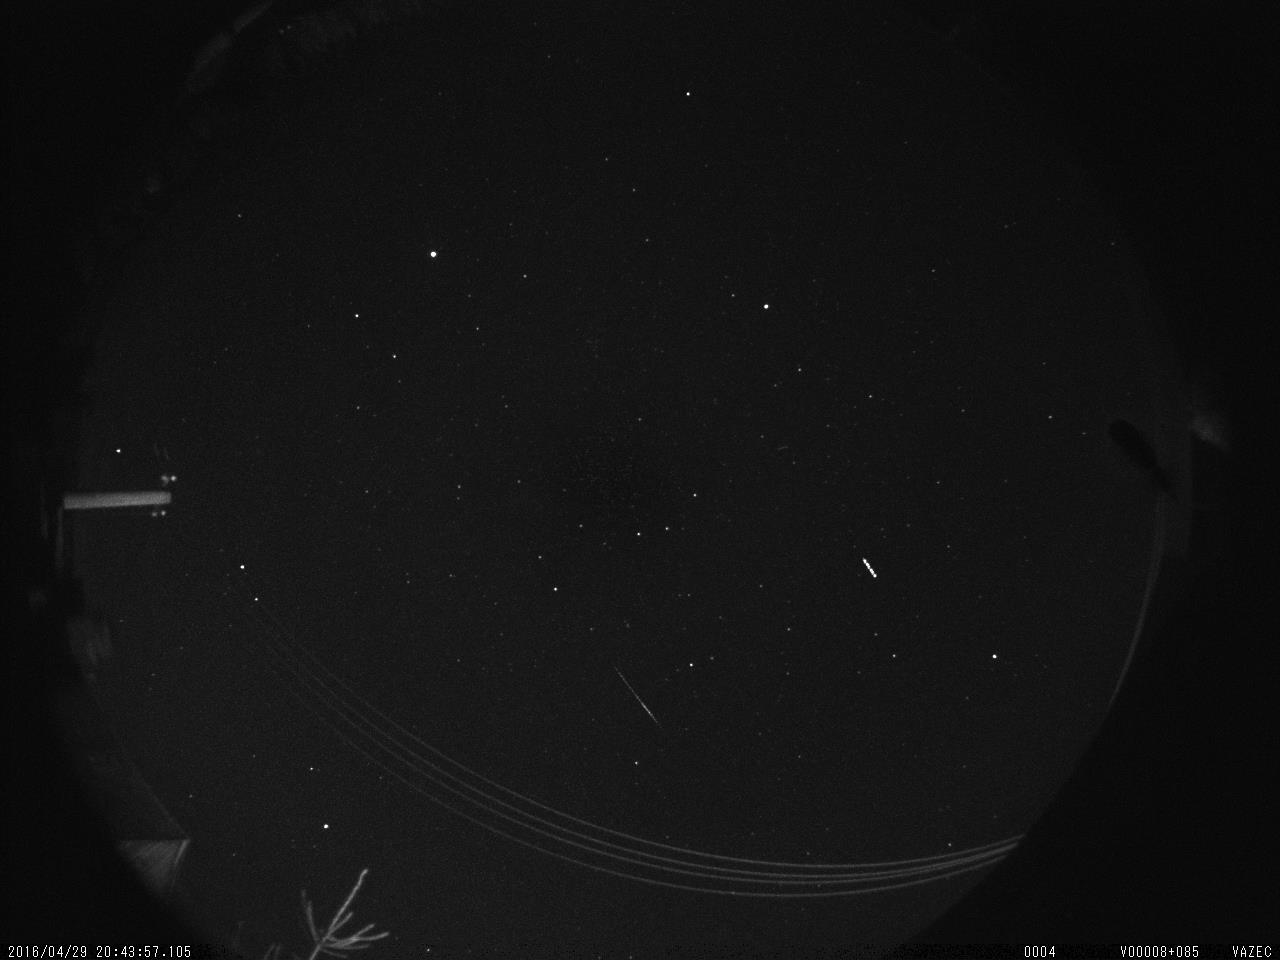meteor: (595, 662, 672, 732)
